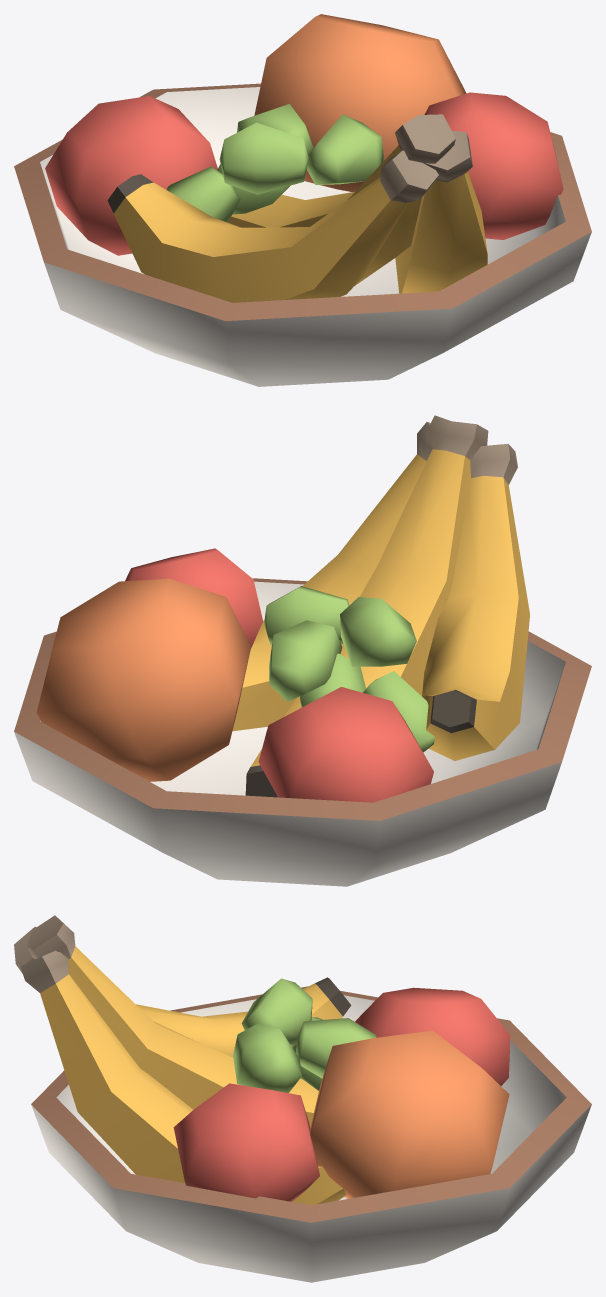
The model's file is SM_Prop_FruitBowl_01.obj.
The picture shows the model from 3 angles, top to bottom: view 1: azimuth 30°, elevation 25°; view 2: azimuth 150°, elevation 25°; view 3: azimuth 270°, elevation 25°; orthographic projection. The views are drawn at different scales.
Visible parts, largest first — view 1: SM_Prop_FruitBowl_01_Mat_SwatchOverlay_PolygonTown_01_Inst; view 2: SM_Prop_FruitBowl_01_Mat_SwatchOverlay_PolygonTown_01_Inst; view 3: SM_Prop_FruitBowl_01_Mat_SwatchOverlay_PolygonTown_01_Inst.
Boxes of the visible parts, x1,y1,x2,y2 form: SM_Prop_FruitBowl_01_Mat_SwatchOverlay_PolygonTown_01_Inst: (14, 14, 591, 386); SM_Prop_FruitBowl_01_Mat_SwatchOverlay_PolygonTown_01_Inst: (14, 415, 591, 886); SM_Prop_FruitBowl_01_Mat_SwatchOverlay_PolygonTown_01_Inst: (14, 915, 591, 1282).
Size of the model in its own units: 0.4353 by 0.2431 by 0.4485.
1 material, 1 textured.
